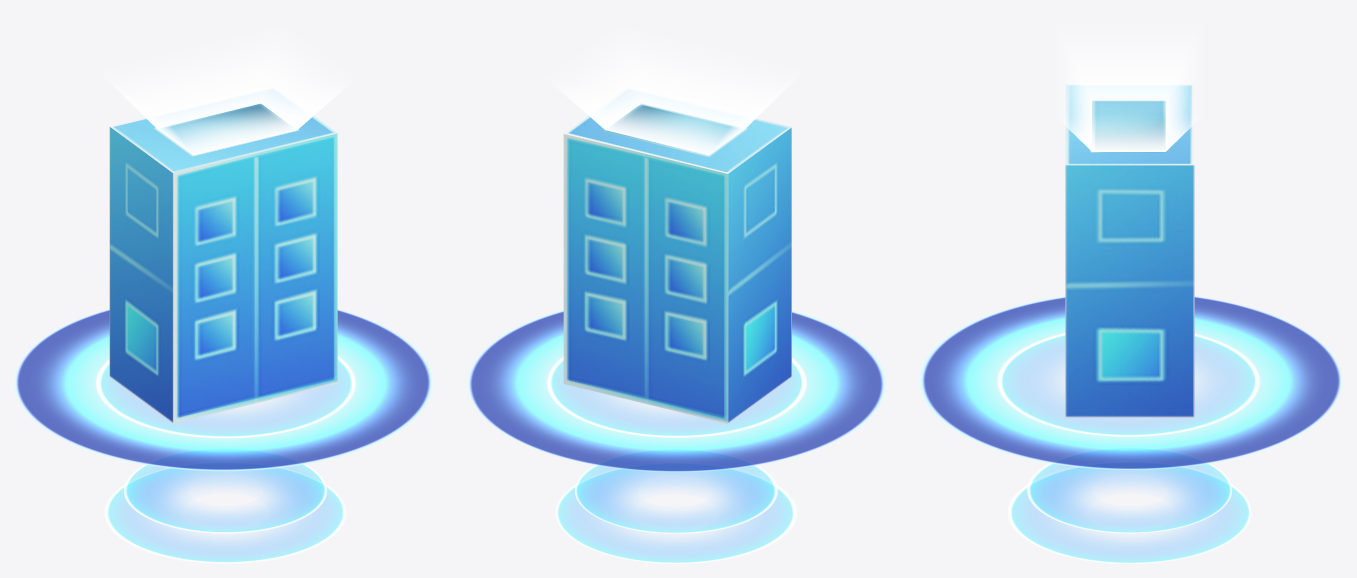
3 renders of one model, left to right at view 1: azimuth 30°, elevation 25°; view 2: azimuth 150°, elevation 25°; view 3: azimuth 270°, elevation 25°, orthographic.
Visible parts, largest first — view 1: Box_Lan.001, DP_GY02, Box_Lan_GY; view 2: Box_Lan.001, DP_GY02, Box_Lan_GY; view 3: DP_GY02, Box_Lan.001, Box_Lan_GY.
Boxes of the visible parts, <box> form: Box_Lan.001: <box>109,87,337,423</box>; DP_GY02: <box>14,309,432,563</box>; Box_Lan_GY: <box>103,36,351,155</box>; Box_Lan.001: <box>563,88,791,423</box>; DP_GY02: <box>468,310,885,563</box>; Box_Lan_GY: <box>550,36,798,155</box>; DP_GY02: <box>919,296,1341,563</box>; Box_Lan.001: <box>1065,84,1194,417</box>; Box_Lan_GY: <box>1058,35,1199,151</box>.
Bounding box in the file's own units: 6.39 × 7.44 × 6.39.
Materials: 3 (3 with a texture image).
